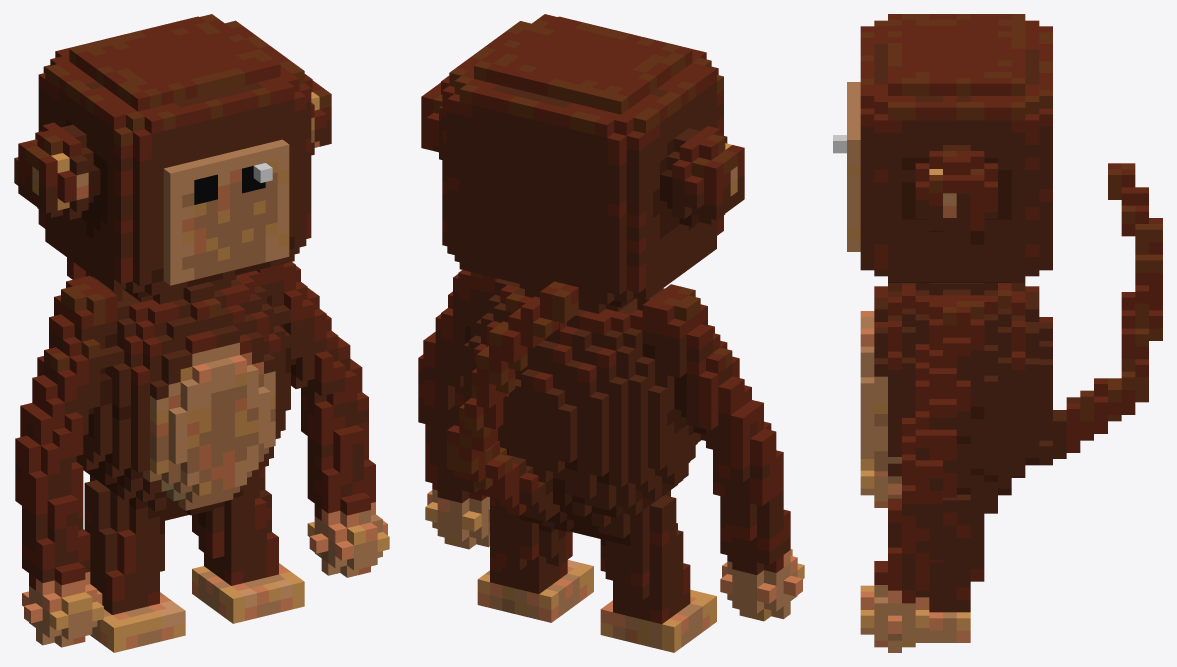
File: Mon_ForestMonkey.glb
3 renders of one model, left to right at view 1: azimuth 30°, elevation 25°; view 2: azimuth 150°, elevation 25°; view 3: azimuth 270°, elevation 25°, orthographic. The views are drawn at different scales.
Visible parts, largest first — view 1: Head, Body, ArmL, ArmR, LegL, LegR; view 2: Head, Body, ArmL, Tail, LegL, ArmR, LegR; view 3: Head, Body, ArmR, Tail, LegR, ArmL.
Part boxes in pixels (x1,y1,x2,y2): Head: [18, 14, 331, 298]; Body: [76, 273, 290, 520]; ArmL: [15, 275, 129, 647]; ArmR: [244, 262, 389, 577]; LegL: [84, 474, 185, 652]; LegR: [192, 467, 304, 623]; Head: [421, 14, 744, 307]; Body: [463, 282, 701, 537]; ArmL: [630, 284, 804, 621]; Tail: [447, 281, 578, 521]; LegL: [593, 489, 716, 652]; ArmR: [418, 270, 510, 549]; LegR: [477, 497, 593, 622]; Head: [833, 14, 1052, 282]; Body: [860, 283, 1052, 495]; ArmR: [860, 289, 984, 652]; Tail: [1025, 163, 1162, 465]; LegR: [915, 488, 997, 642]; ArmL: [860, 459, 901, 507].
Size of the model in its own units: 7.5 by 11 by 6.
Materials: 1 (1 with a texture image).
